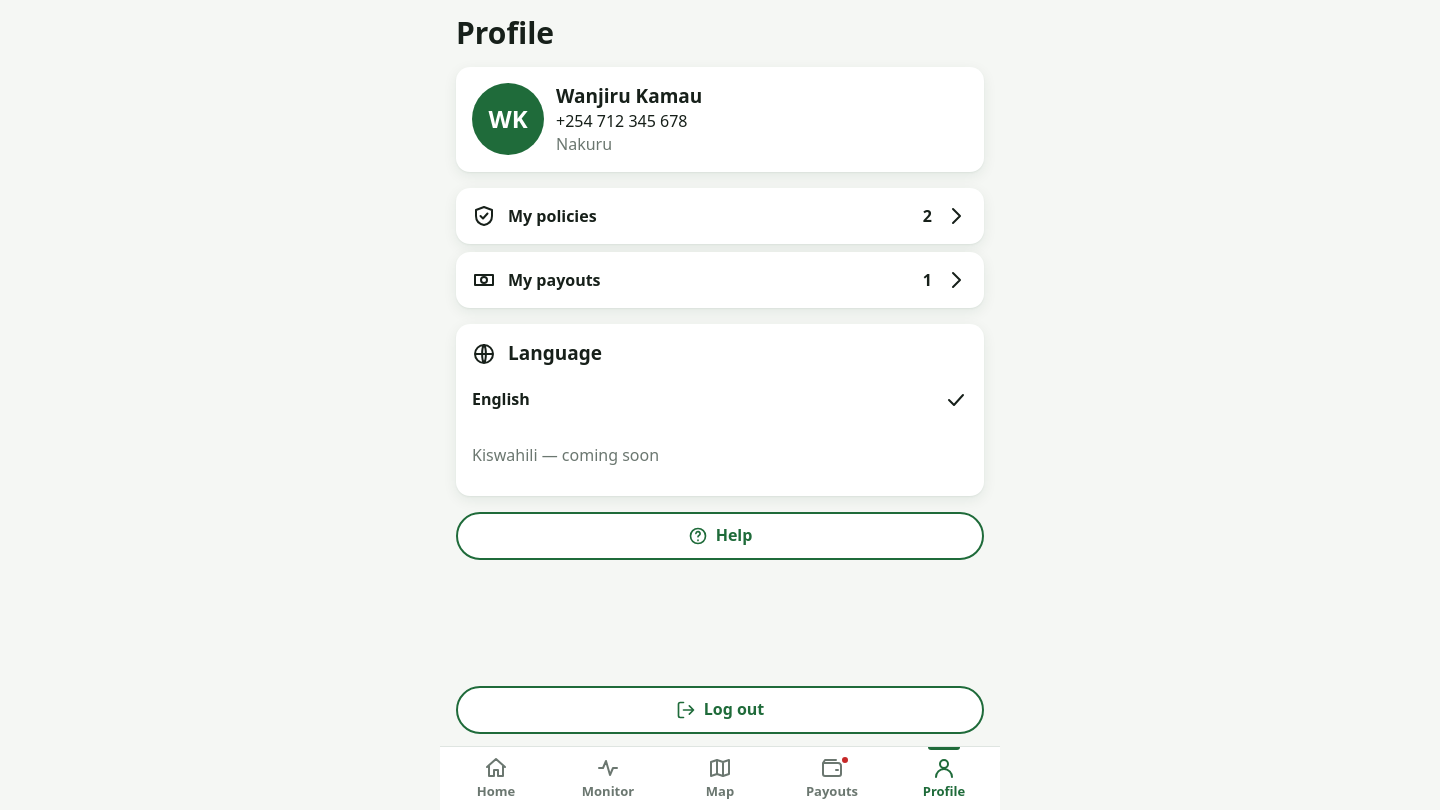
Profile › one tap on Log out only asks for confirmation
The image size is (1440, 810).
Step 1. Click the button "Log out" → (720, 710), box 456,686 -> 984,734
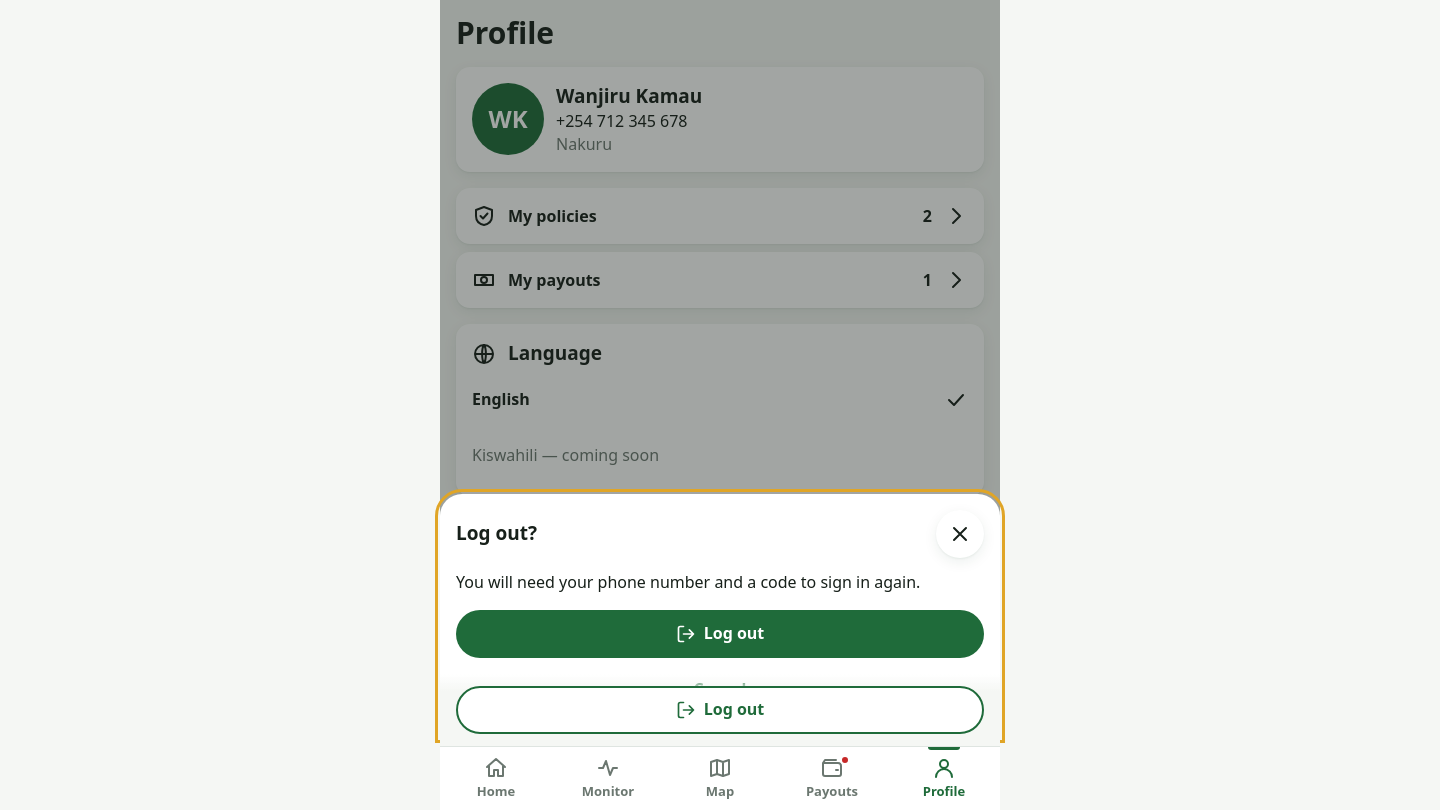
Expected: the text "You will need your phone number and a code to sign in again." is shown, 456,570 -> 984,594
Expected: the button "Log out" below "Log out?" is shown, 456,610 -> 984,658
Expected: the button "Cancel" is shown, 456,666 -> 984,714
